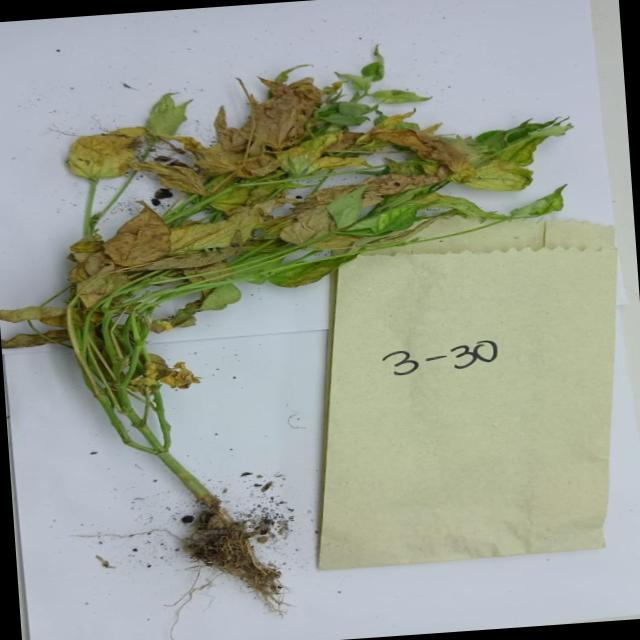Root: (61, 490, 310, 640)
Stem: (96, 403, 220, 502), (132, 256, 310, 304), (125, 316, 184, 456), (290, 236, 498, 268), (95, 327, 145, 423), (69, 336, 113, 416), (82, 186, 103, 242)
healty_leaves: (352, 183, 588, 234), (461, 109, 581, 195), (310, 57, 405, 128), (230, 242, 356, 288), (148, 285, 256, 334)
rooten_leaf: (204, 68, 320, 158), (128, 124, 270, 192), (370, 120, 468, 177), (299, 168, 449, 205), (100, 201, 172, 270), (66, 236, 135, 306), (268, 202, 358, 254), (116, 243, 236, 277), (0, 294, 110, 331), (3, 329, 81, 351)
